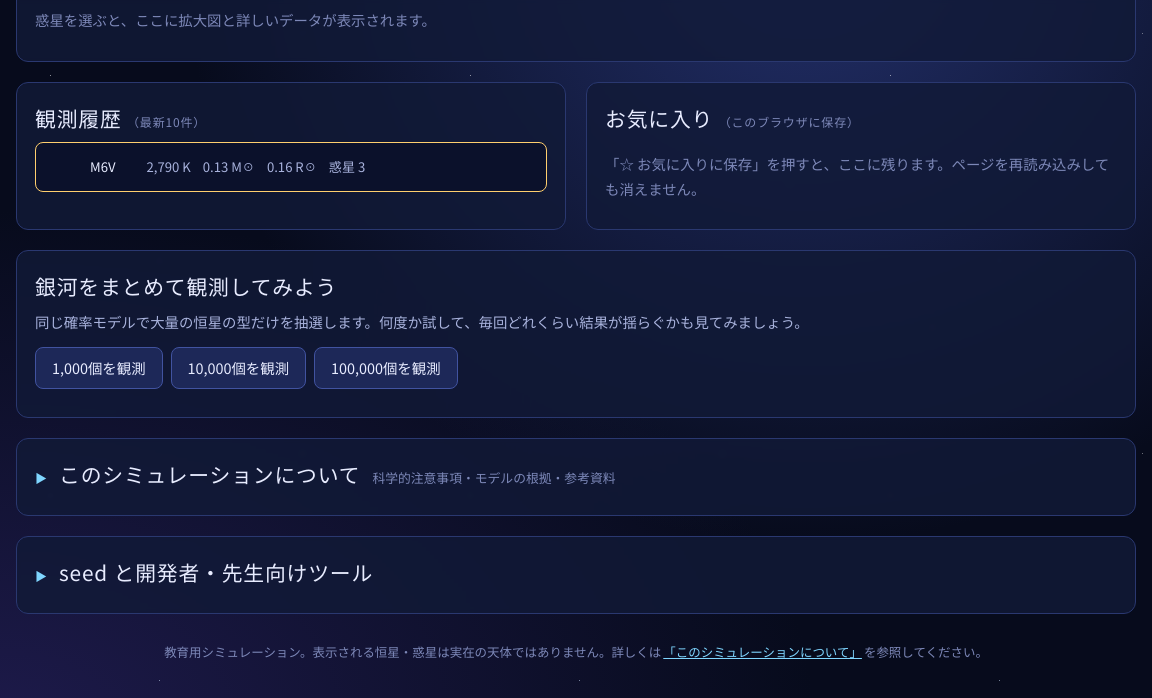
Test case: まとめて観測 › 1,000個の観測結果の表が表示される
The image size is (1152, 698).
(page scrolled)
Click the button "1,000個を観測" at (99, 368), box top-left (35, 347), bottom-right (162, 390)
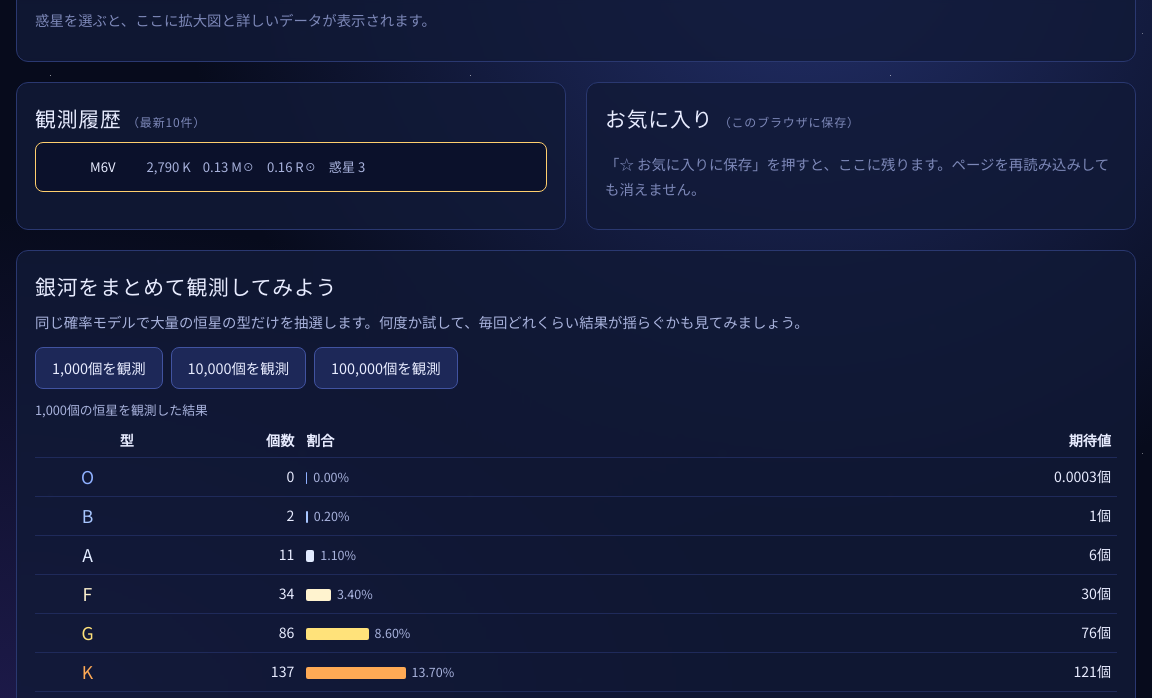
Result: the text "1,000個の恒星を観測した結果" is shown at top-left (35, 400), bottom-right (208, 419)
Result: the number of rows is 8
